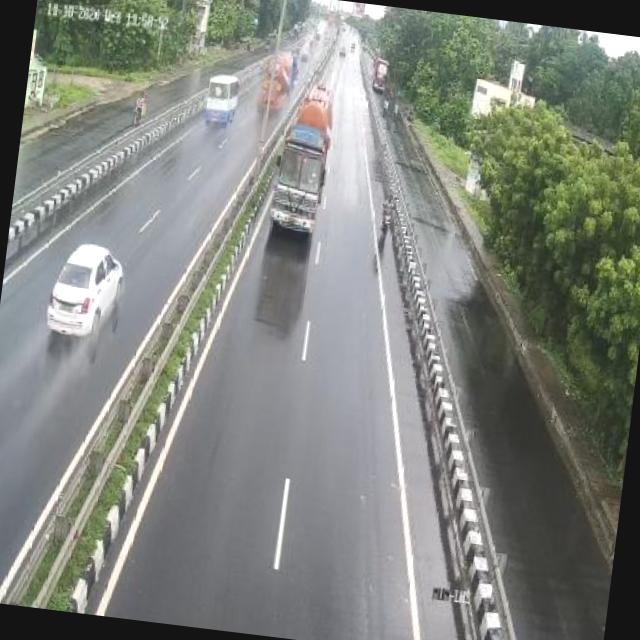car: (42, 235, 130, 342)
